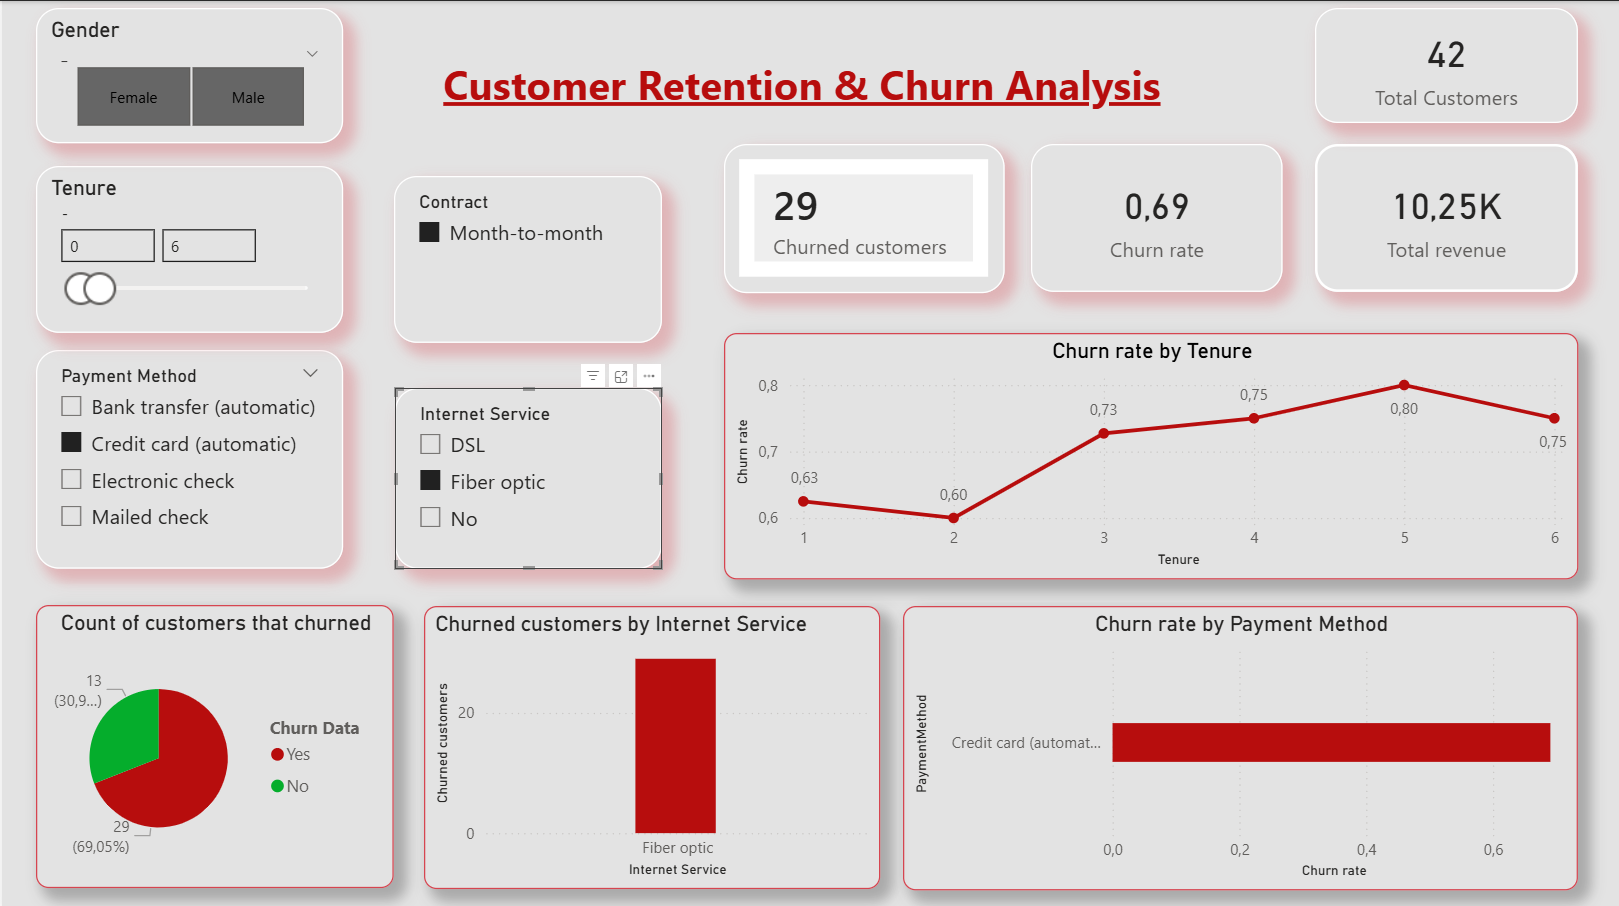

This screenshot's page, from the dashboard's own definition file:
{"tool":"powerbi","page":{"name":"Page 1","canvas":[1280,720],"ordinal":0},"visuals":[{"type":"card","fields":{"Values":["Sheet1.Total Customers"]},"box":[1038.8,5.8,208.1,91.4],"z":0},{"type":"cardVisual","fields":{"Data":["Sheet1.Churned customers"]},"box":[570.9,112.8,221.8,117.7],"z":1000},{"type":"card","fields":{"Values":["Sheet1.churn rate"]},"box":[814.1,112.8,199.4,116.7],"z":2000},{"type":"card","fields":{"Values":["Sheet1.Total revenue"]},"box":[1038.8,112.8,208.1,116.7],"z":3000},{"type":"pieChart","title":"Count of customers that churned","fields":{"Category":["Sheet1.Churn Data","Sheet1.Churn"],"Y":["CountNonNull(Sheet1.customerID)"]},"box":[27.2,477.6,283,223.7],"z":4000},{"type":"clusteredColumnChart","title":"Churned customers by Internet Service","fields":{"Category":["Sheet1.InternetService"],"Y":["Sheet1.Churned customers"]},"box":[333.6,478.5,360.9,223.7],"z":5000},{"type":"slicer","fields":{"Values":["Sheet1.PaymentMethod"]},"box":[27.2,276.2,243.2,173.1],"z":6000},{"type":"slicer","fields":{"Values":["Sheet1.Contract"]},"box":[310.3,138.1,212,132.3],"z":7000},{"type":"slicer","fields":{"Values":["Sheet1.InternetService"]},"box":[311.2,306.4,211.1,143],"z":8000},{"type":"slicer","title":"Tenure","fields":{"Values":["Sheet1.tenure"]},"box":[27.2,130.3,243.2,132.3],"z":9000},{"type":"slicer","title":"Gender","fields":{"Values":["Sheet1.gender"]},"box":[27.2,5.8,243.2,107],"z":10000},{"type":"lineChart","title":"Churn rate by Tenure","fields":{"Y":["Sheet1.Churn rate"],"Category":["Sheet1.tenure"]},"box":[570.9,262.6,676,194.5],"z":11000},{"type":"textbox","box":[344.3,37.9,649.7,59.3],"z":12000},{"type":"clusteredBarChart","title":"Churn rate by Payment Method","fields":{"Category":["Sheet1.PaymentMethod"],"Y":["Sheet1.Churn rate"]},"box":[712.9,478.5,534,224.7],"z":13000}]}

Visuals, with their boxes in screenshot pixels (x1, y1, x2, y2), scaled from the page's 1280x720 canvas onto the 1619x906 screenshot:
card - Sheet1.Total Customers: crop(1314, 7, 1577, 122)
cardVisual - Sheet1.Churned customers: crop(722, 142, 1003, 290)
card - Sheet1.churn rate: crop(1030, 142, 1282, 289)
card - Sheet1.Total revenue: crop(1314, 142, 1577, 289)
"Count of customers that churned" pieChart: crop(34, 601, 392, 882)
"Churned customers by Internet Service" clusteredColumnChart: crop(422, 602, 878, 884)
slicer - Sheet1.PaymentMethod: crop(34, 348, 342, 565)
slicer - Sheet1.Contract: crop(392, 174, 661, 340)
slicer - Sheet1.InternetService: crop(394, 386, 661, 565)
"Tenure" slicer: crop(34, 164, 342, 330)
"Gender" slicer: crop(34, 7, 342, 142)
"Churn rate by Tenure" lineChart: crop(722, 330, 1577, 575)
textbox: crop(435, 48, 1257, 122)
"Churn rate by Payment Method" clusteredBarChart: crop(902, 602, 1577, 885)
